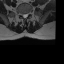CCS_normal: (24, 11, 26, 19)
LFS_normal: (28, 10, 30, 16)
LLS_normal: (26, 11, 28, 19)
RFS_normal: (20, 10, 22, 18)
RLS_normal: (22, 11, 24, 19)
